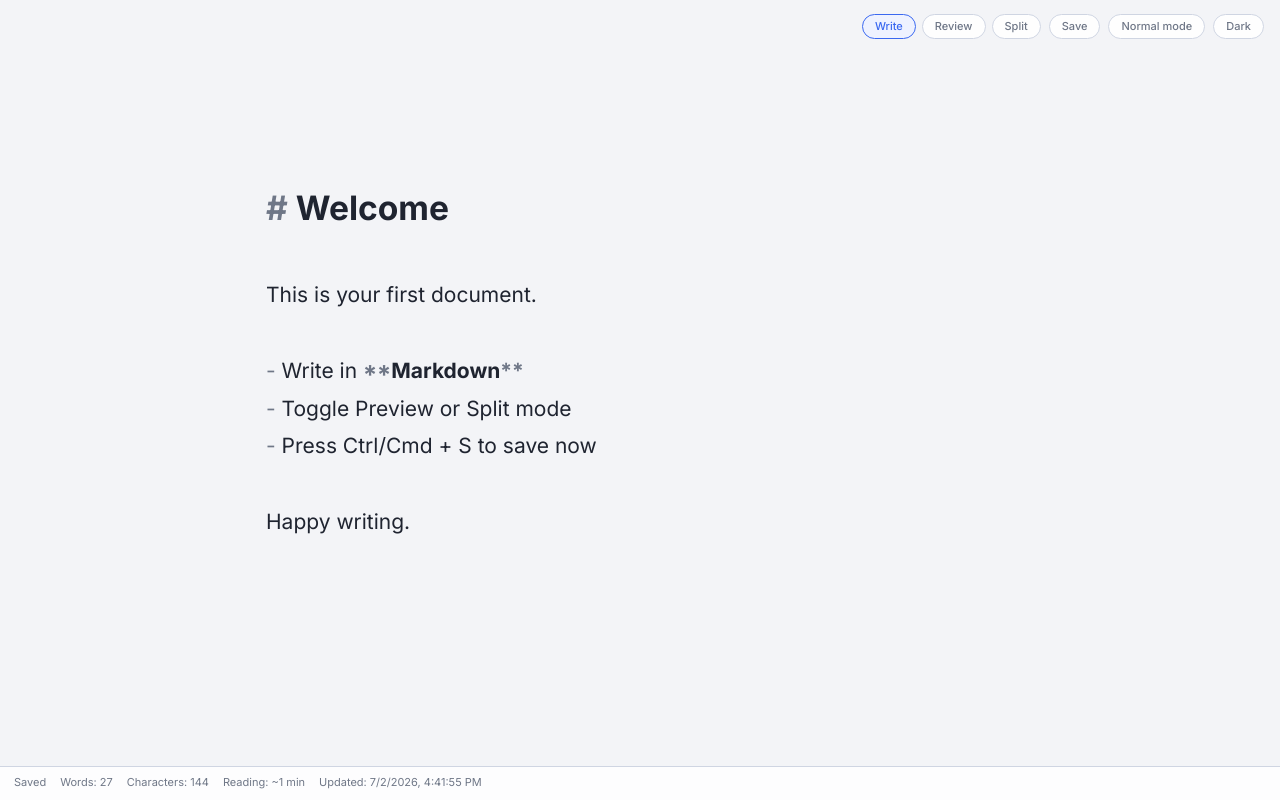
Test: App — focus mode toggle › exits focus mode when Normal mode clicked
This screenshot has width=1280, height=800.
Click the button "Normal mode" at point(1157, 26), box [1108,14,1205,39]
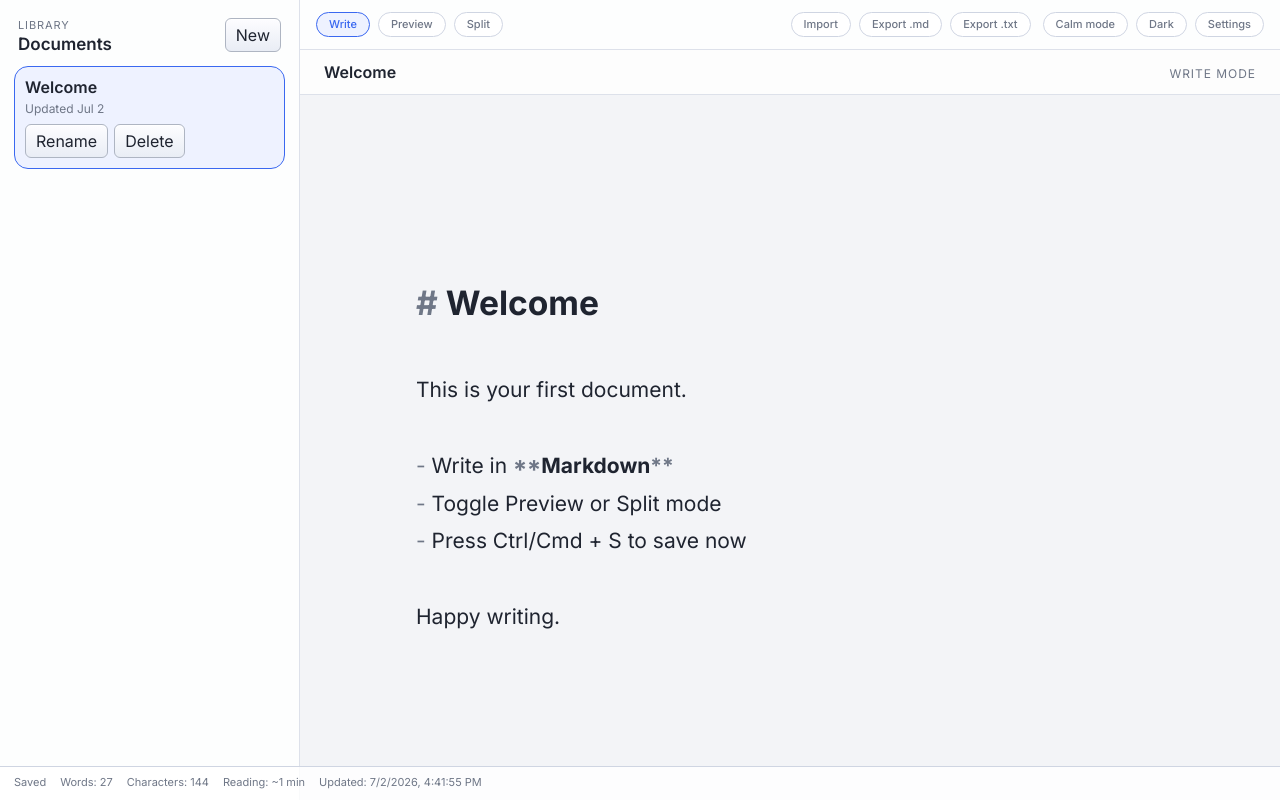
Result: the button "Normal mode" is gone
Result: the button "Calm mode" is shown at [1043,12,1128,37]
